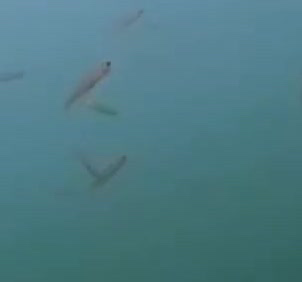smallfish: (63, 53, 112, 113)
